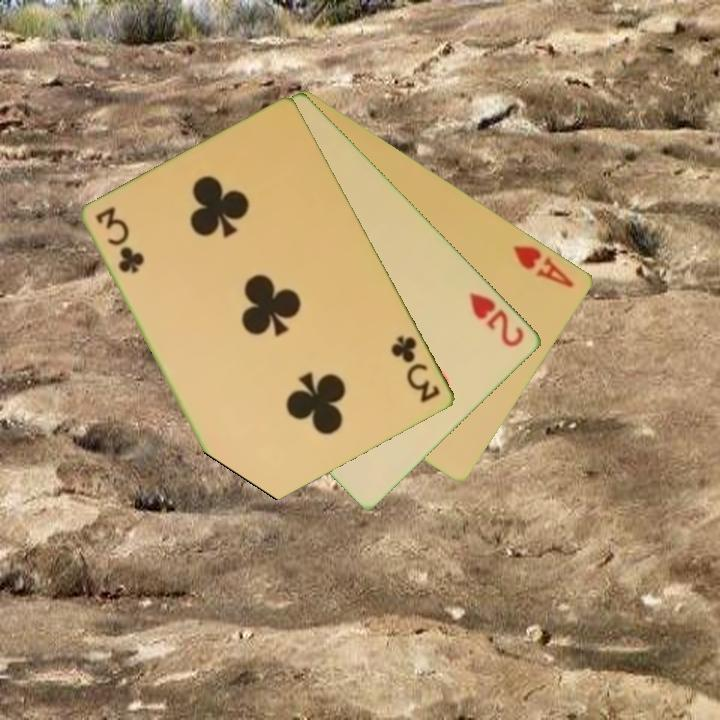2h: (466, 288, 528, 350)
3c: (388, 332, 444, 406), (93, 204, 145, 277)
Ah: (510, 241, 578, 291)
